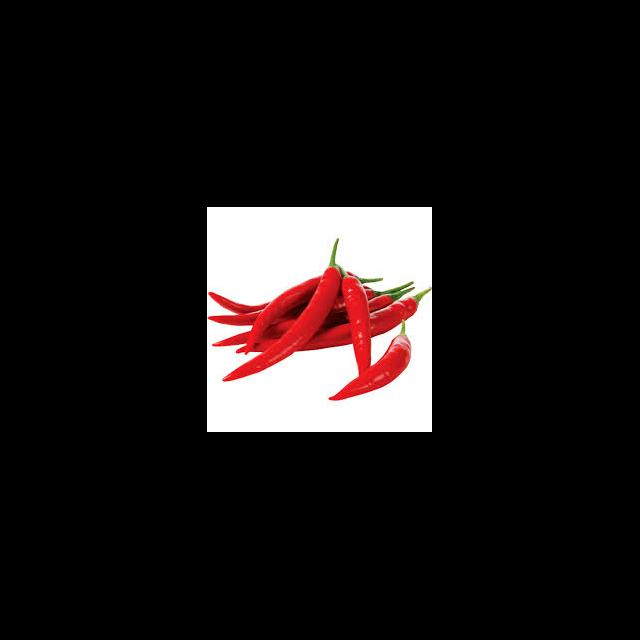chili_pepper: (237, 271, 326, 356), (328, 335, 412, 402), (341, 275, 373, 376), (370, 288, 432, 338), (208, 290, 272, 317)
